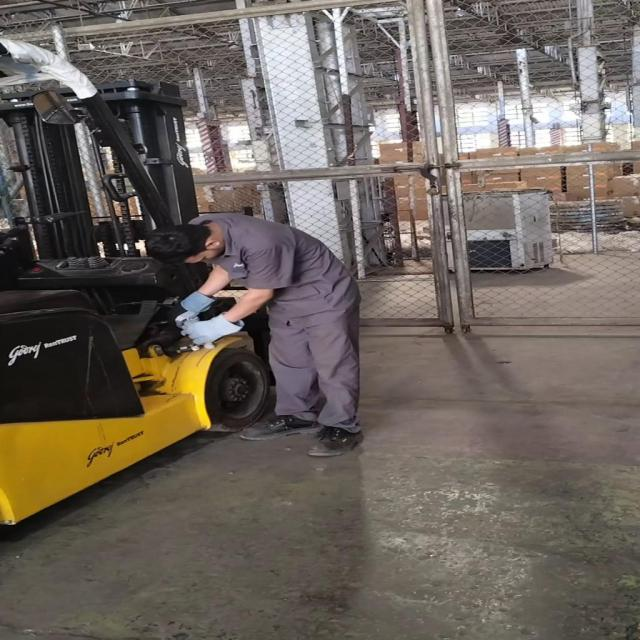Gloves-Detection: (161, 292, 243, 348)
